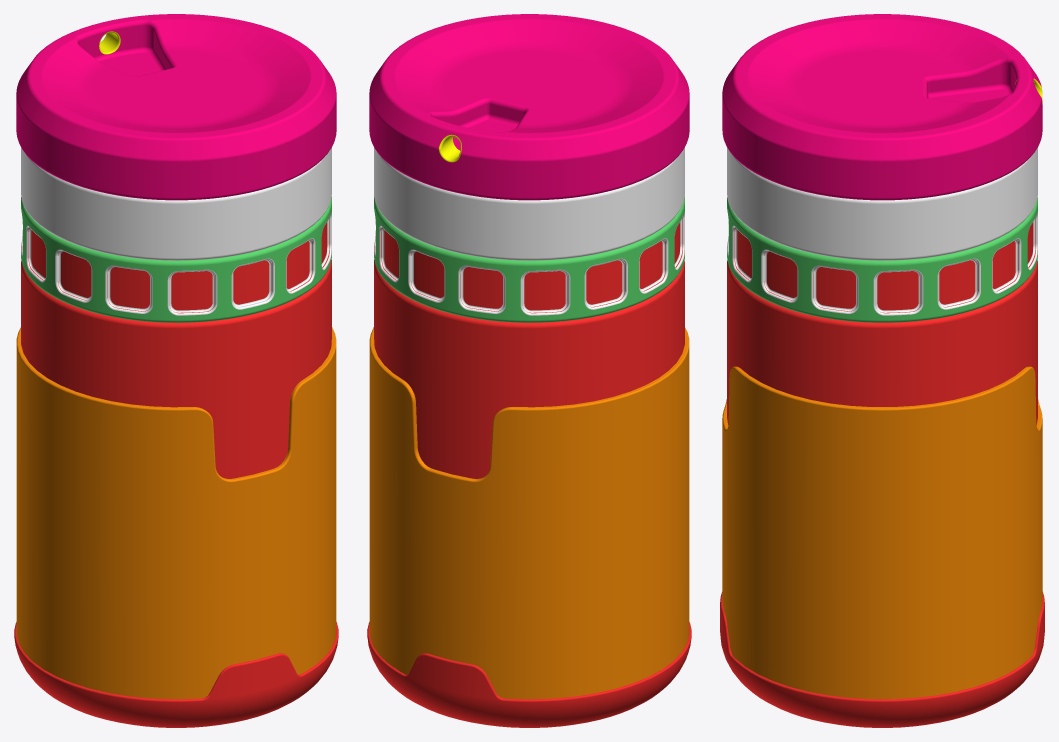
File: coffee.glb
3 views of the same model, side by side, from view 1: azimuth 30°, elevation 25°; view 2: azimuth 150°, elevation 25°; view 3: azimuth 270°, elevation 25° (orthographic).
Parts seen in each view (by area): view 1: Outer mug, Leak-proof lid, Grip twist, Internal cup; view 2: Outer mug, Leak-proof lid, Grip twist, Internal cup; view 3: Outer mug, Leak-proof lid, Grip twist, Internal cup.
Part boxes in pixels (bbox=[...]): Outer mug: bbox=[14, 260, 338, 727]; Leak-proof lid: bbox=[16, 14, 336, 200]; Grip twist: bbox=[21, 196, 331, 322]; Internal cup: bbox=[21, 147, 331, 260]; Outer mug: bbox=[367, 260, 691, 727]; Leak-proof lid: bbox=[369, 14, 689, 200]; Grip twist: bbox=[374, 196, 684, 322]; Internal cup: bbox=[374, 147, 684, 260]; Outer mug: bbox=[720, 261, 1044, 727]; Leak-proof lid: bbox=[722, 14, 1042, 200]; Grip twist: bbox=[727, 197, 1037, 322]; Internal cup: bbox=[727, 147, 1037, 260].
Size of the model in its own units: 0.0902 by 0.1835 by 0.0902.
